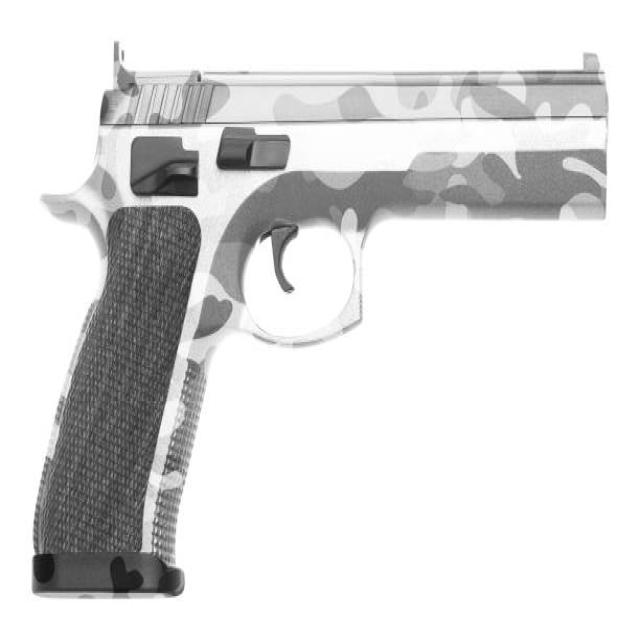pistol: (28, 35, 616, 612)
